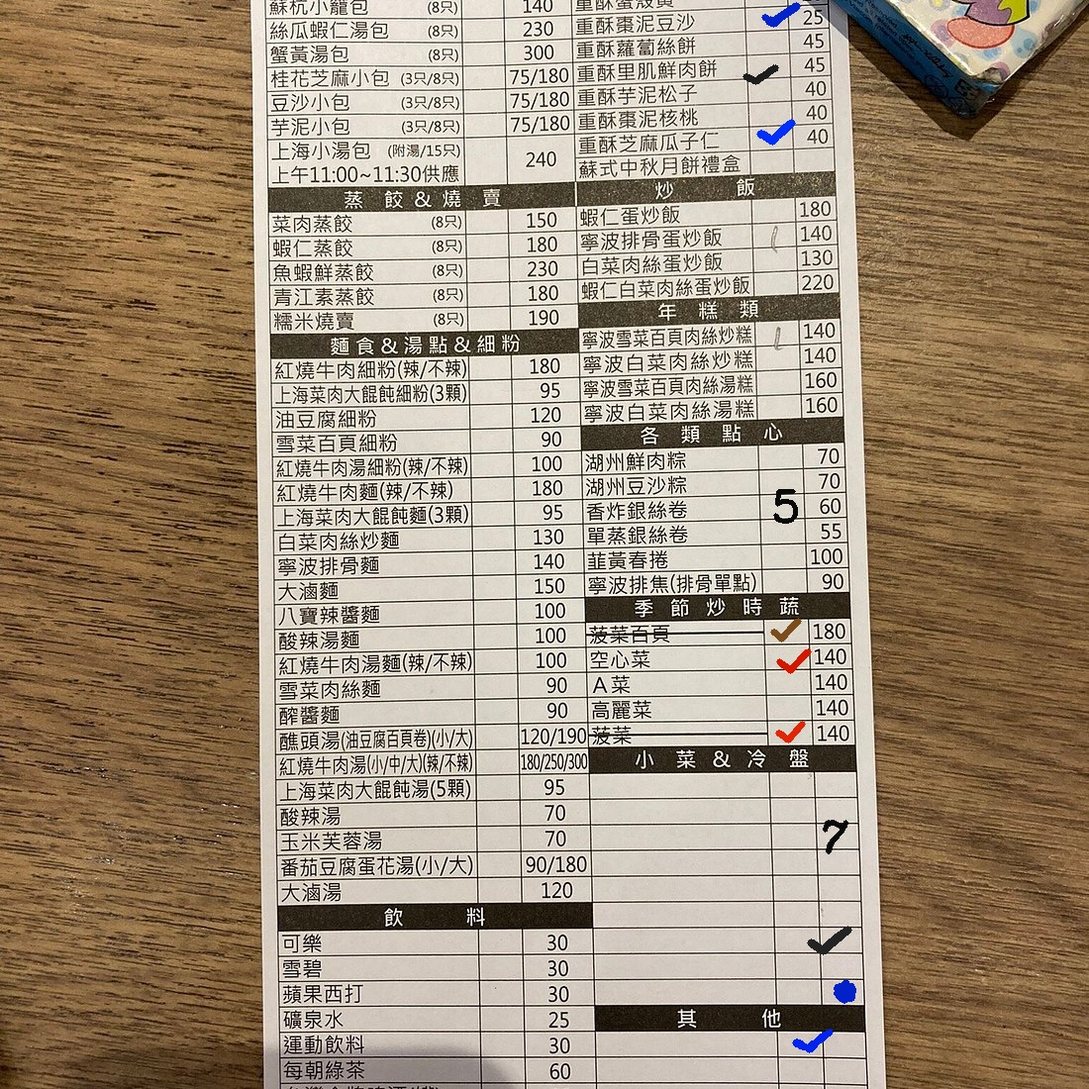marked_circle: (820, 977, 863, 1005)
marked_number_5: (760, 493, 804, 521)
marked_number_7: (817, 822, 860, 849)
marked_tick: (746, 3, 790, 31), (748, 73, 792, 101), (749, 123, 793, 150), (764, 718, 808, 745), (764, 642, 808, 669), (763, 618, 807, 645), (776, 1030, 820, 1057), (819, 926, 862, 953)
